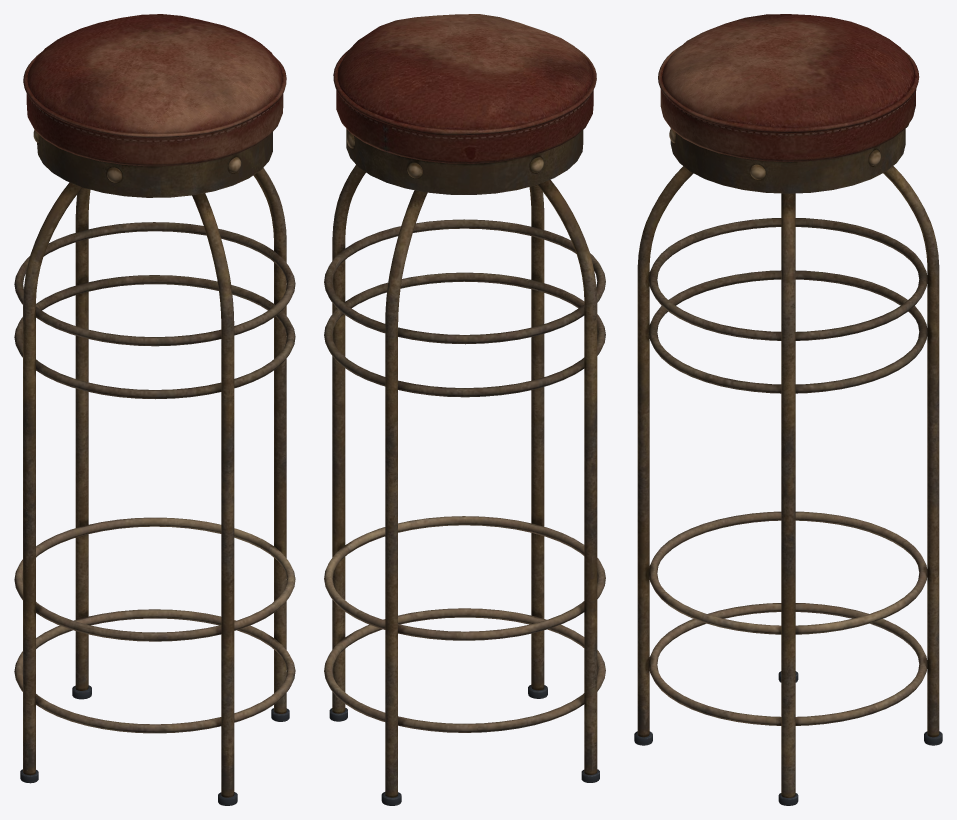
Rendered from metal_stool_01.glb.
3 views of the same model, side by side, from view 1: azimuth 30°, elevation 25°; view 2: azimuth 150°, elevation 25°; view 3: azimuth 270°, elevation 25° (orthographic).
Visible parts, largest first — view 1: metal_stool_01; view 2: metal_stool_01; view 3: metal_stool_01.
Part boxes in pixels (x1=…): metal_stool_01: x1=14, y1=14, x2=295, y2=805; metal_stool_01: x1=324, y1=14, x2=605, y2=805; metal_stool_01: x1=634, y1=14, x2=942, y2=805.
Size of the model in its own units: 0.352 by 0.8828 by 0.3546.
Materials: 1 (1 with a texture image).
